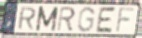E: (95, 6, 117, 34)
F: (115, 7, 136, 34)
G: (77, 6, 96, 33)
M: (35, 5, 60, 32)
R: (56, 6, 77, 32), (17, 6, 37, 31)
